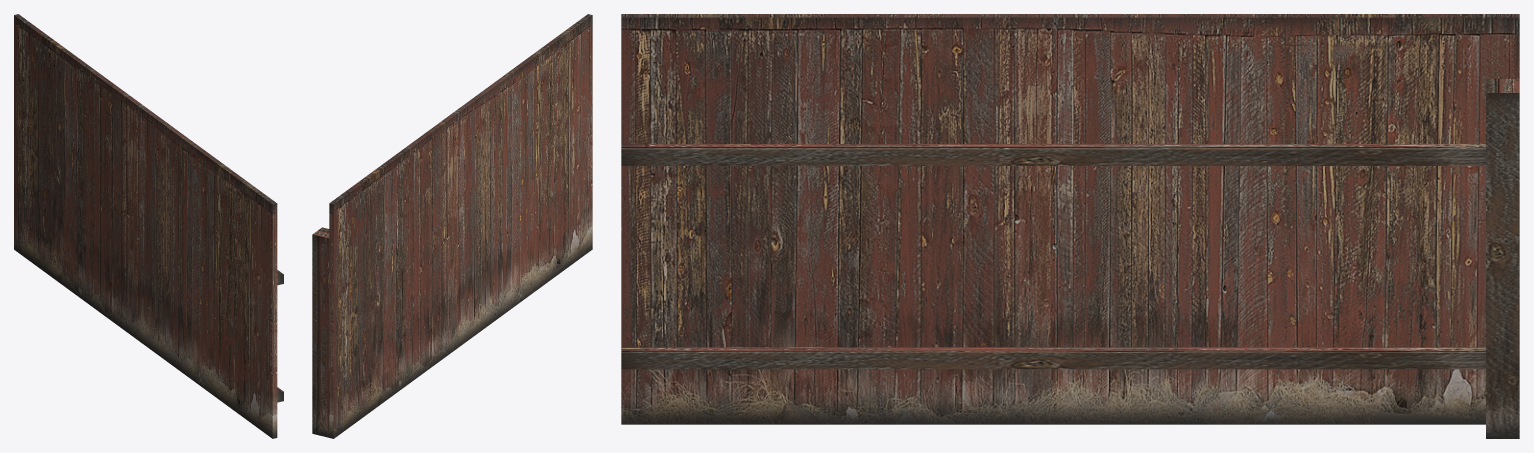
The model's file is sibir_zabor_derevo4.FBX.
The picture shows the model from 3 angles, left to right: view 1: azimuth 30°, elevation 25°; view 2: azimuth 150°, elevation 25°; view 3: azimuth 270°, elevation 25°; orthographic projection. The views are drawn at different scales.
Parts seen in each view (by area): view 1: sibir_zabor_derevo4; view 2: sibir_zabor_derevo4; view 3: sibir_zabor_derevo4.
Part boxes in pixels (<box>): sibir_zabor_derevo4: <box>14,14,283,438</box>; sibir_zabor_derevo4: <box>312,14,592,438</box>; sibir_zabor_derevo4: <box>621,14,1519,438</box>.
Bounding box in the file's own units: 19.02 × 400 × 200.
